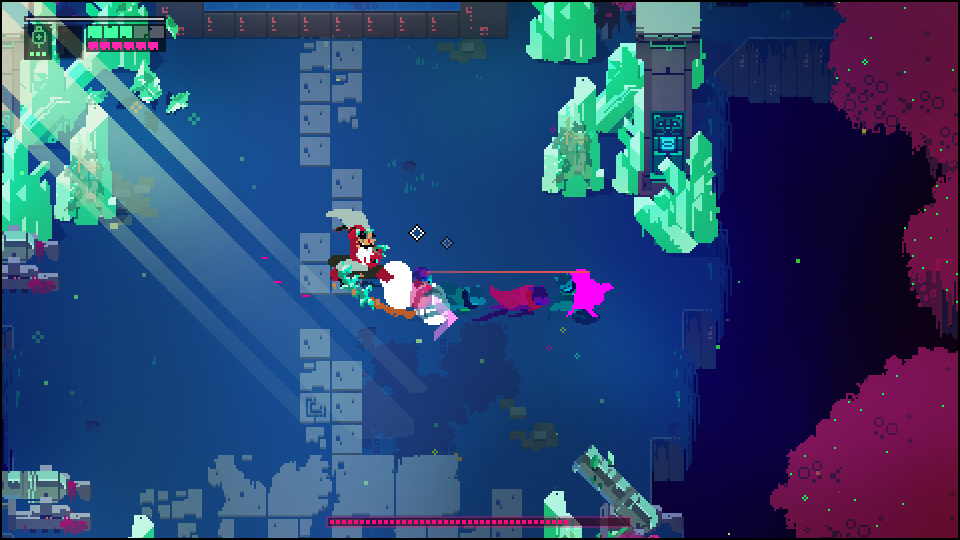hanged_man: (318, 208, 399, 313)
player: (561, 266, 616, 324)
